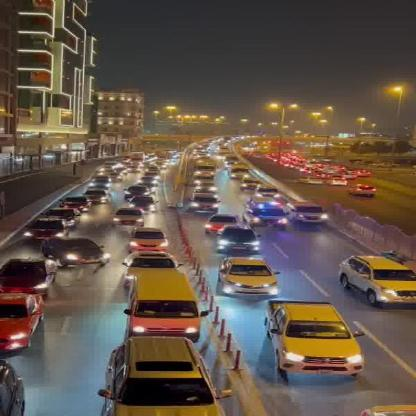priority: (247, 192, 289, 230)
